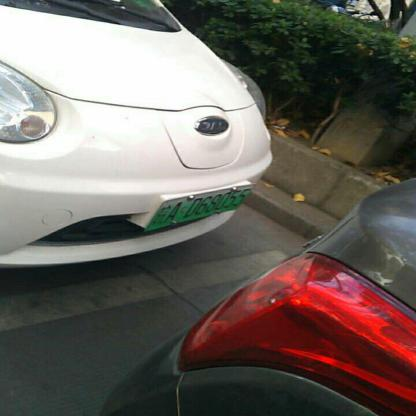lp: (146, 184, 254, 230)
